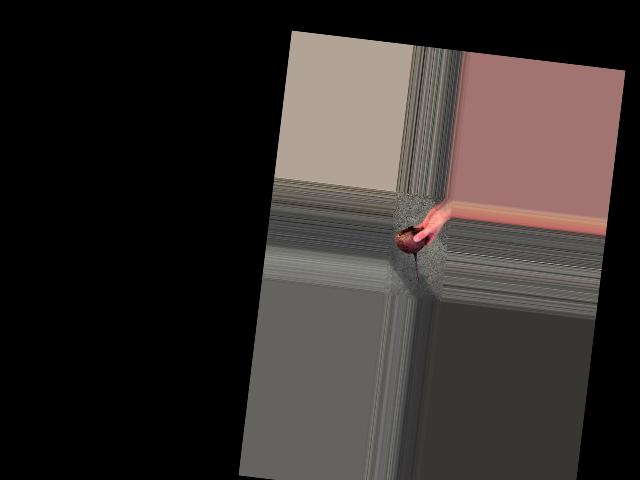beet: (390, 224, 426, 282)
